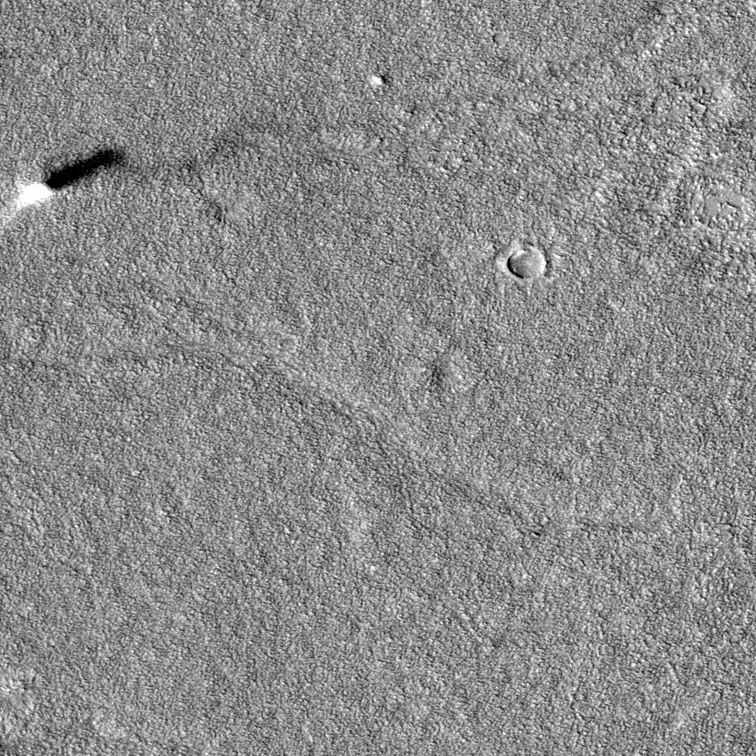dust_devil: (10, 141, 127, 218)
